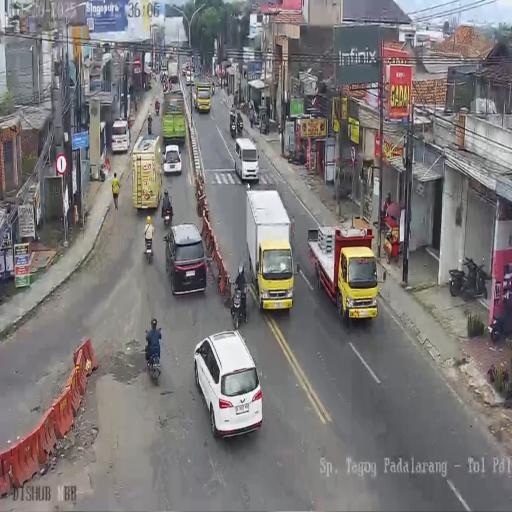3: (307, 218, 378, 326), (248, 188, 292, 311), (131, 134, 162, 210), (161, 92, 186, 146), (192, 77, 211, 113), (167, 56, 179, 84), (144, 51, 152, 77), (160, 56, 169, 78)
car: (193, 329, 263, 439), (164, 223, 206, 296), (234, 137, 259, 184), (110, 119, 130, 154), (162, 144, 182, 176), (185, 70, 194, 86), (182, 63, 188, 76)
truck: (449, 255, 490, 302), (489, 287, 512, 342), (230, 277, 249, 330), (146, 335, 161, 383), (286, 146, 305, 166), (144, 229, 154, 263), (162, 198, 172, 228), (229, 110, 236, 136), (236, 110, 243, 133), (249, 106, 256, 128), (240, 100, 248, 115), (154, 100, 160, 116), (148, 114, 152, 134), (163, 80, 168, 93), (278, 121, 282, 135), (211, 84, 215, 96)
